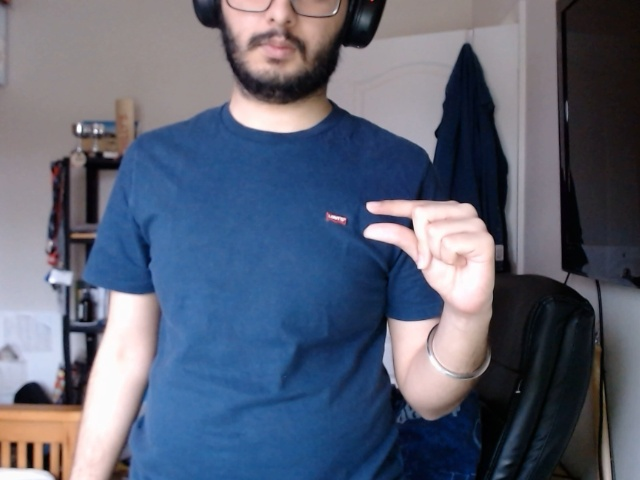Small: (347, 190, 510, 316)
